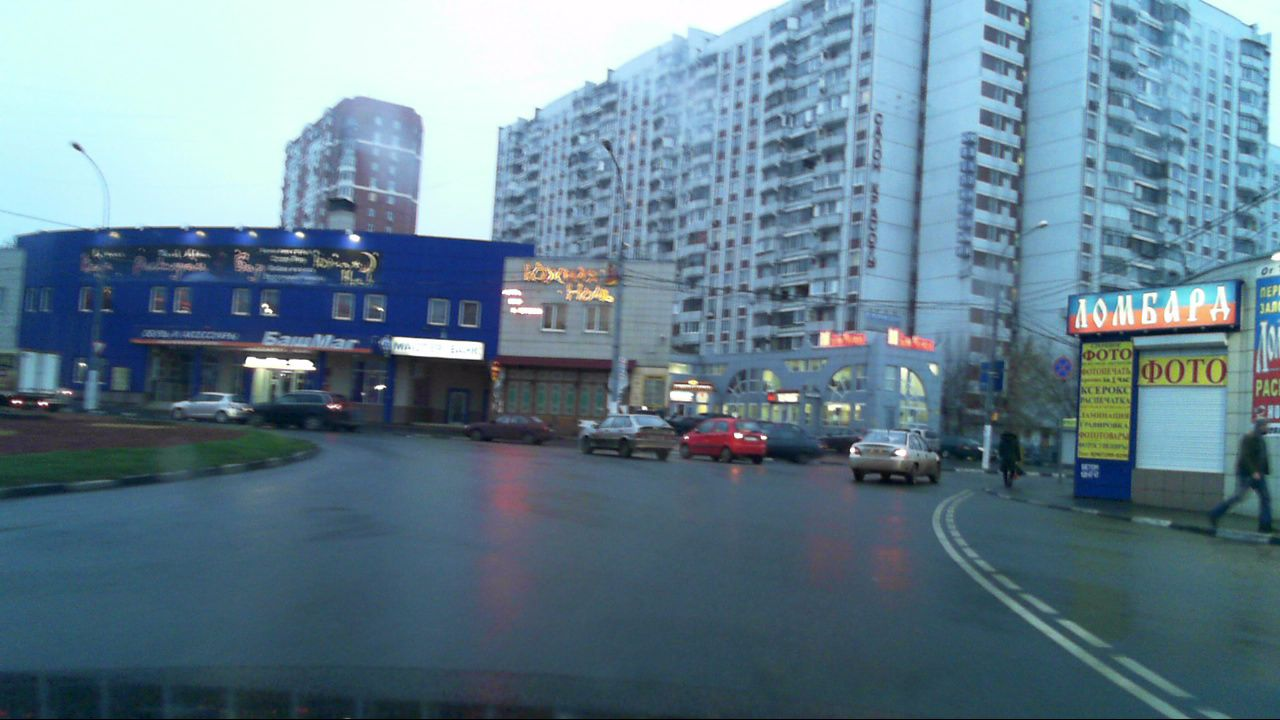No Parking: (1051, 356, 1073, 379)
